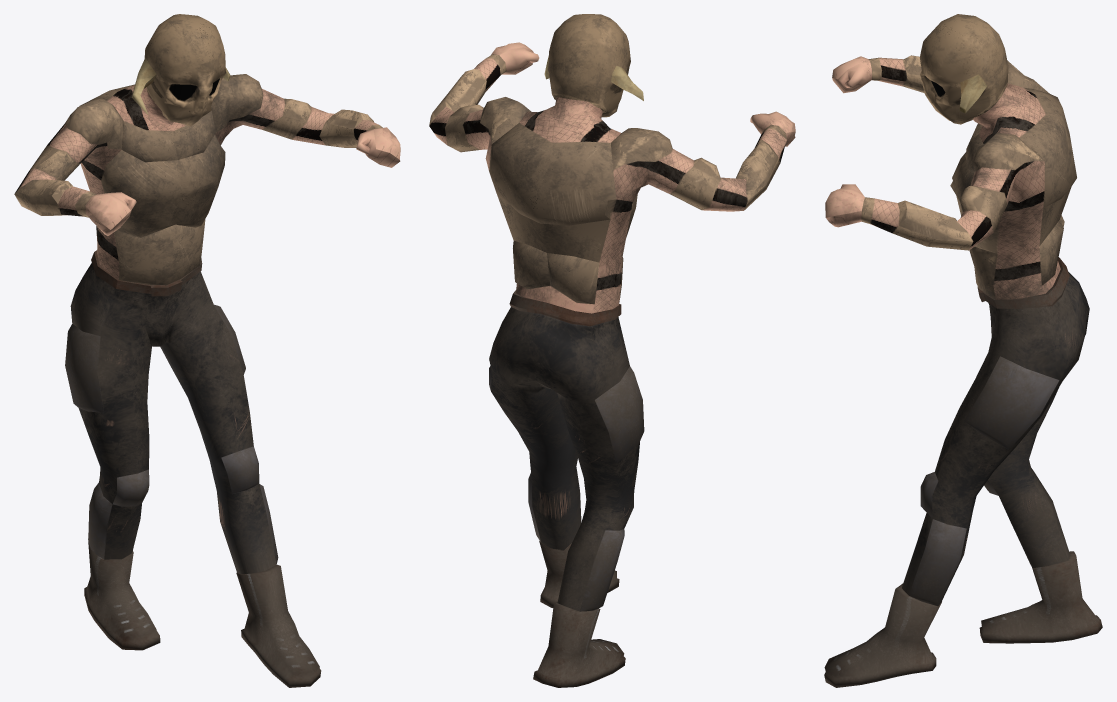
Rendered from Anim_ataque_d3_npc1.0048.obj.
3 renders of one model, left to right at view 1: azimuth 30°, elevation 25°; view 2: azimuth 150°, elevation 25°; view 3: azimuth 270°, elevation 25°, orthographic.
Visible parts, largest first — view 1: NPC2; view 2: NPC2; view 3: NPC2.
Part boxes in pixels (x1,y1,x2,y2): NPC2: (14, 14, 400, 687); NPC2: (429, 14, 795, 687); NPC2: (824, 14, 1102, 687).
Size of the model in its own units: 5.05 by 9.28 by 3.69.
